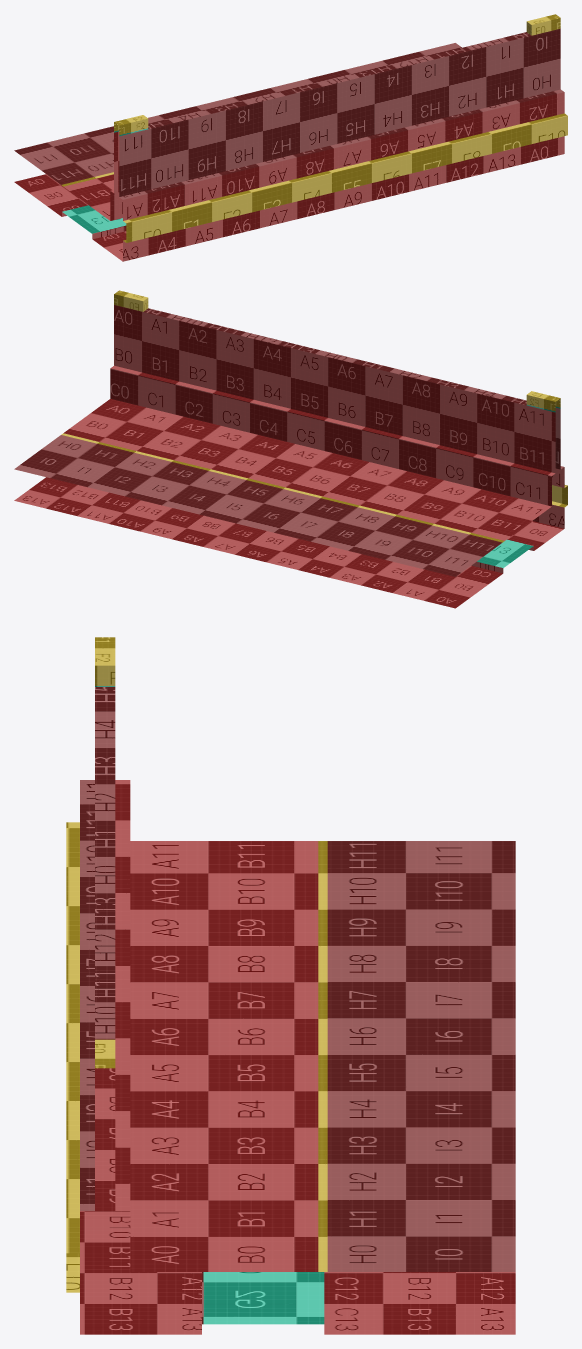
The model's file is Walkway.fbx.
3 views of the same model, one above another, from view 1: azimuth 30°, elevation 25°; view 2: azimuth 150°, elevation 25°; view 3: azimuth 270°, elevation 25° (orthographic). The views are drawn at different scales.
Parts seen in each view (by area): view 1: Prison_WalkWay; view 2: Prison_WalkWay; view 3: Prison_WalkWay.
Boxes of the visible parts, left/top/right/bottom form: Prison_WalkWay: left=14, top=14, right=567, bottom=261; Prison_WalkWay: left=14, top=290, right=567, bottom=608; Prison_WalkWay: left=66, top=637, right=515, bottom=1334.
Bounding box in the file's own units: 810 × 234 × 357.
